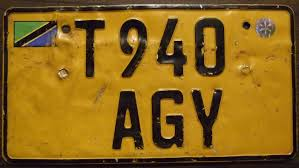T: (70, 15, 111, 84)
